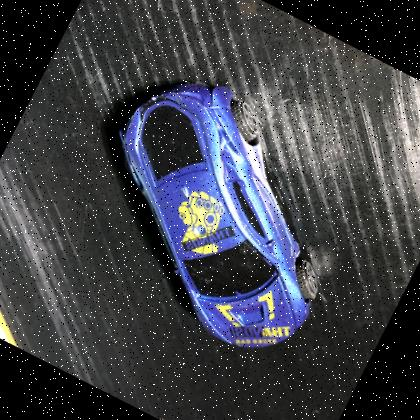Car: (46, 45, 394, 381)
